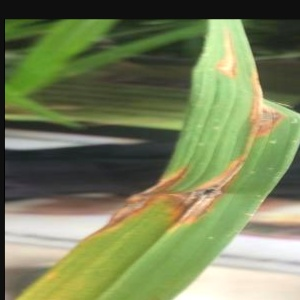Brown_Spot: (101, 148, 196, 225), (178, 146, 257, 233), (242, 70, 300, 144), (209, 28, 246, 77)
